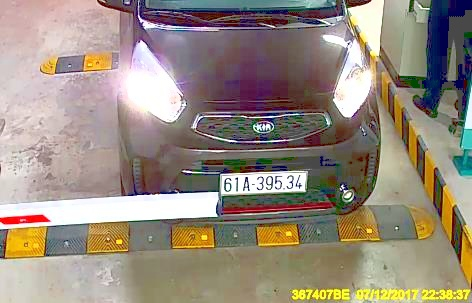plate: (219, 171, 311, 196)
